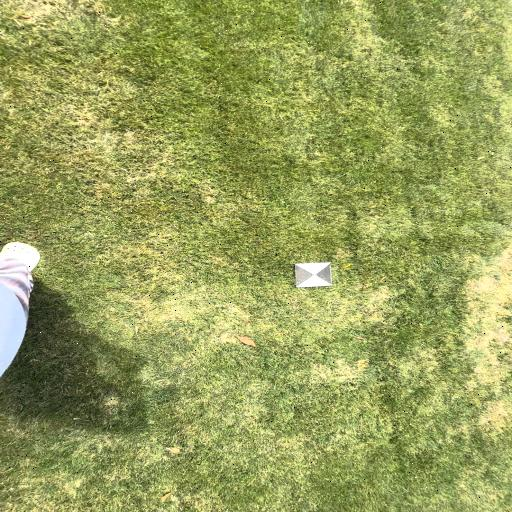target: (295, 262, 333, 288)
